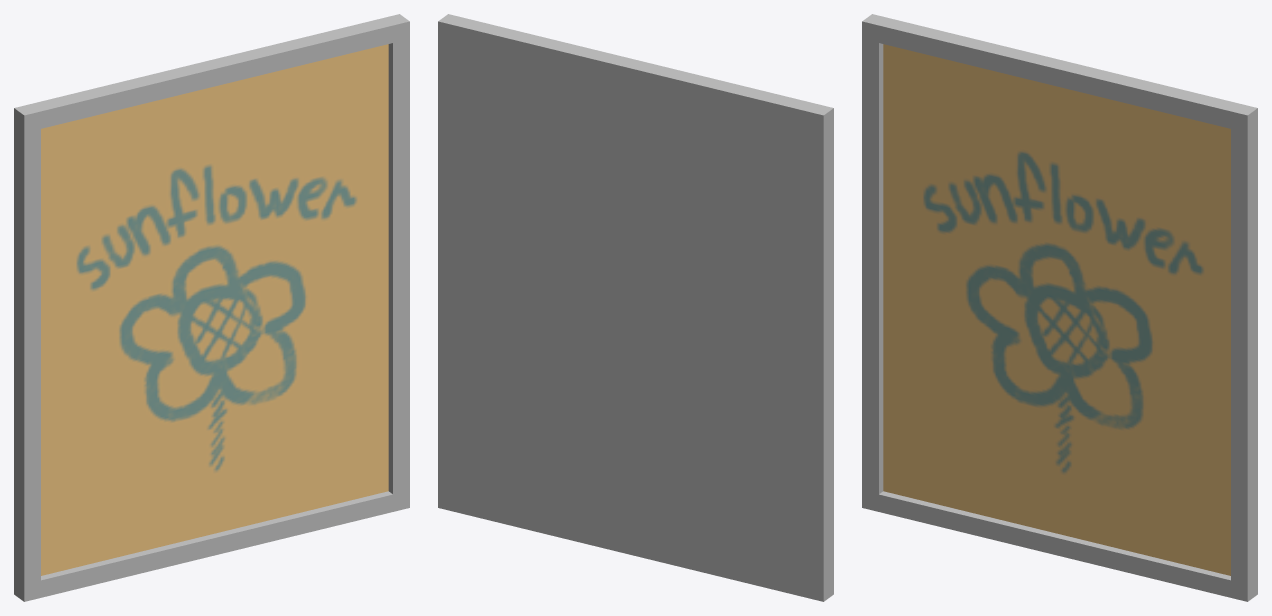
The model's file is SM_Props_Paintnig_15.fbx.
3 renders of one model, left to right at view 1: azimuth 30°, elevation 25°; view 2: azimuth 150°, elevation 25°; view 3: azimuth 330°, elevation 25°, orthographic.
Parts seen in each view (by area): view 1: SM_Props_Paintnig_15; view 2: SM_Props_Paintnig_15; view 3: SM_Props_Paintnig_15.
Part boxes in pixels (box(x1,y1,x2,y2)): SM_Props_Paintnig_15: box(14, 14, 409, 601); SM_Props_Paintnig_15: box(438, 14, 833, 601); SM_Props_Paintnig_15: box(862, 14, 1257, 601).
Size of the model in its own units: 0.5385 by 0.6493 by 0.0246.
